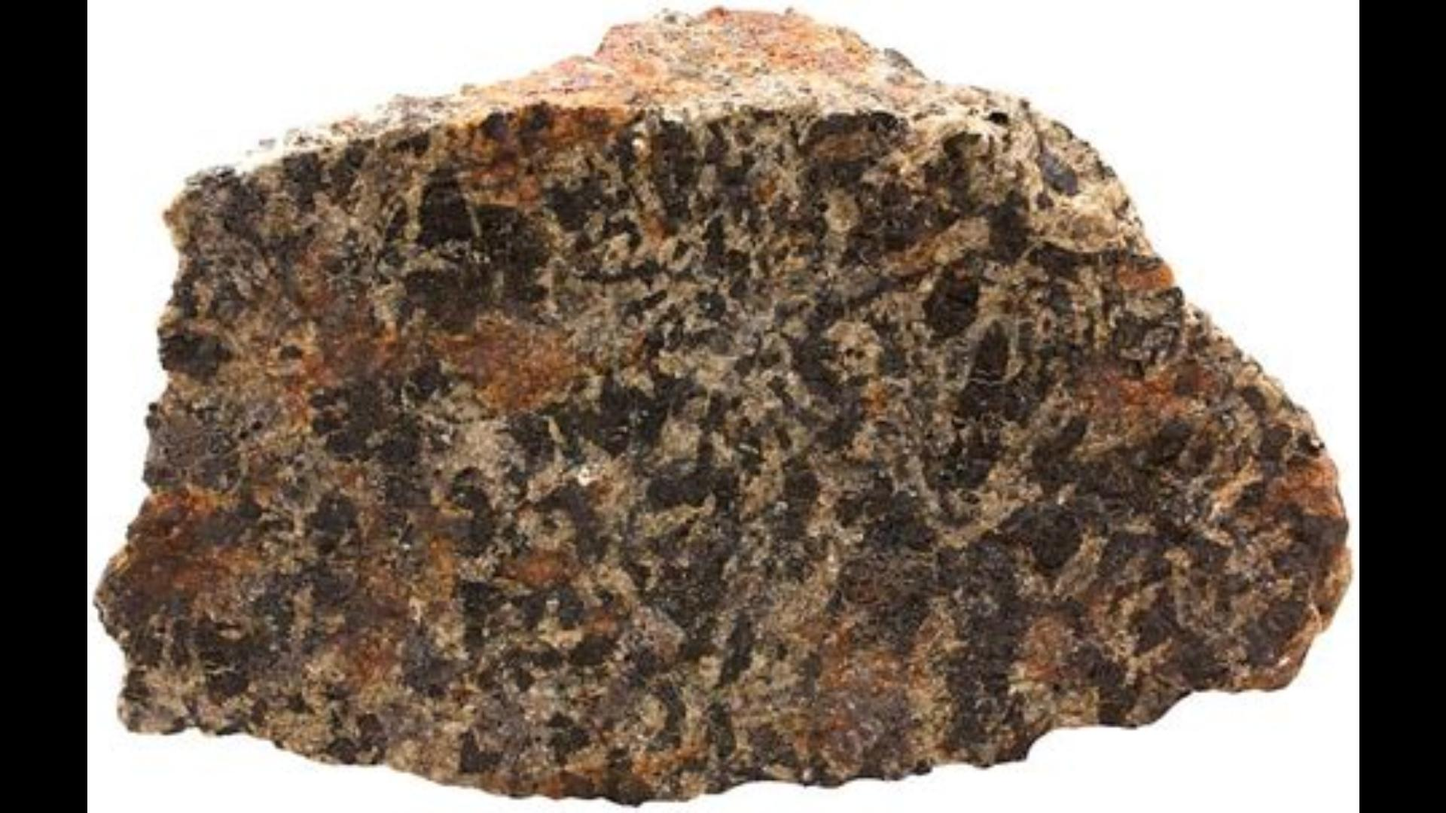rock: (97, 11, 1346, 797)
